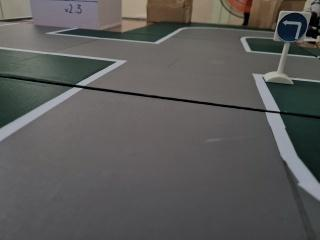left: (269, 6, 317, 46)
